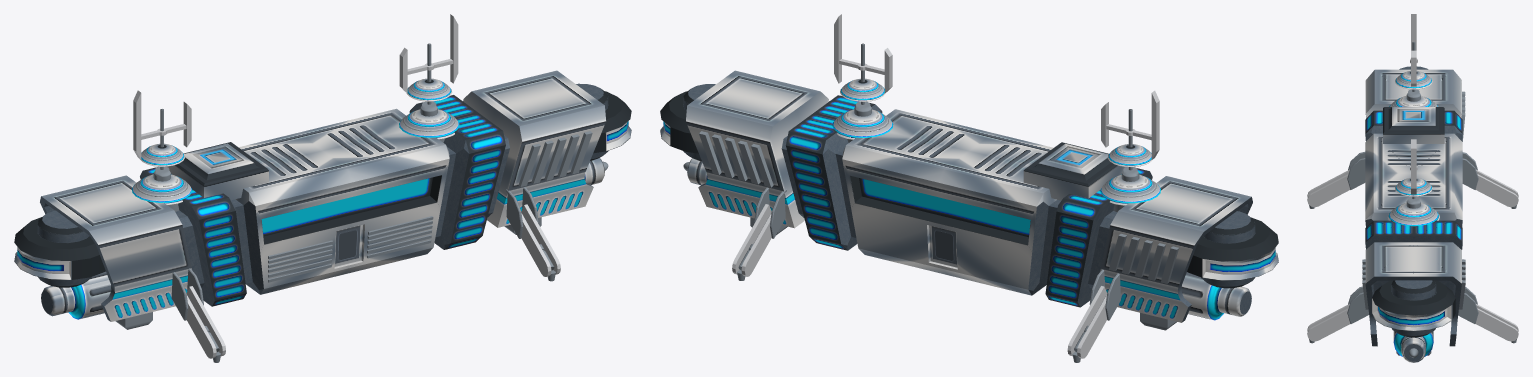
Rendered from Transfer_Satellite3.fbx.
3 views of the same model, side by side, from view 1: azimuth 30°, elevation 25°; view 2: azimuth 150°, elevation 25°; view 3: azimuth 270°, elevation 25° (orthographic). The views are drawn at different scales.
Parts seen in each view (by area): view 1: pCube1.001, pCube2.002 (×2), pCylinder1.002 (×2), pCube12, pSphere1 (×2), pCylinder2.006, polySurface1.002, pasted__polySurface1, pasted__polySurface2, pSphere4 (×2), pCylinder4.002 (×2), pCylinder3.002 (×2) (+2 smaller); view 2: pCube1.001, pCube2.002 (×2), pCylinder1.002 (×2), pCube12, pSphere1 (×2), pCylinder2.006, polySurface2.001, polySurface1.002, pSphere4 (×2), pCylinder4.002 (×2), pCylinder3.002 (×2), pCube4 (×2) (+1 smaller); view 3: pCube1.001, pCube2.002 (×2), pCylinder1.002, pCylinder3.002 (×4), pCube12, pCylinder2.008 (×4), pSphere1 (×2), pSphere4 (×2), pCylinder2.006, pCylinder4.002 (×4), pCube4 (×2), pCube3 (+2 smaller).
Part boxes in pixels (x1,y1,x2,y2): pCube1.001: (140, 95, 509, 306); pCube2.002 (×2): (40, 70, 605, 321); pCylinder1.002 (×2): (14, 83, 631, 287); pCube12: (167, 142, 268, 200); pSphere1 (×2): (132, 109, 459, 205); pCylinder2.006: (41, 271, 111, 319); polySurface1.002: (518, 131, 592, 186); pasted__polySurface1: (367, 216, 433, 258); pasted__polySurface2: (268, 240, 333, 282); pSphere4 (×2): (140, 78, 452, 166); pCylinder4.002 (×2): (186, 213, 551, 358); pCylinder3.002 (×2): (186, 204, 560, 356); pCube1.001: (781, 95, 1152, 307); pCube2.002 (×2): (686, 70, 1252, 322); pCylinder1.002 (×2): (660, 84, 1278, 288); pCube12: (1023, 142, 1125, 200); pSphere1 (×2): (832, 109, 1160, 205); pCylinder2.006: (1181, 272, 1251, 320); polySurface2.001: (699, 131, 773, 187); polySurface1.002: (1109, 233, 1178, 283); pSphere4 (×2): (840, 78, 1152, 167); pCylinder4.002 (×2): (741, 213, 1107, 358); pCylinder3.002 (×2): (732, 204, 1107, 356); pCube4 (×2): (834, 14, 1159, 159); pCube1.001: (1365, 110, 1462, 249); pCube2.002 (×2): (1365, 69, 1461, 346); pCylinder1.002: (1372, 280, 1455, 337); pCylinder3.002 (×4): (1307, 174, 1518, 341); pCube12: (1383, 107, 1444, 143); pCylinder2.008 (×4): (1347, 158, 1478, 323); pSphere1 (×2): (1387, 95, 1439, 226); pSphere4 (×2): (1395, 70, 1432, 196); pCylinder2.006: (1393, 331, 1433, 362); pCylinder4.002 (×4): (1307, 169, 1518, 331); pCube4 (×2): (1411, 14, 1416, 194); pCube3: (1411, 50, 1416, 86).
Bounding box in the file's own units: 23.32 × 8.43 × 8.59.
4 materials, 2 textured.
